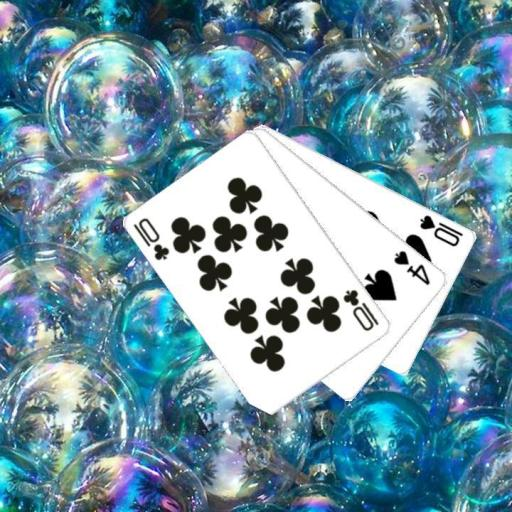10C: (130, 214, 172, 262), (340, 286, 381, 333)
10S: (417, 211, 465, 248)
4S: (391, 248, 432, 287)
